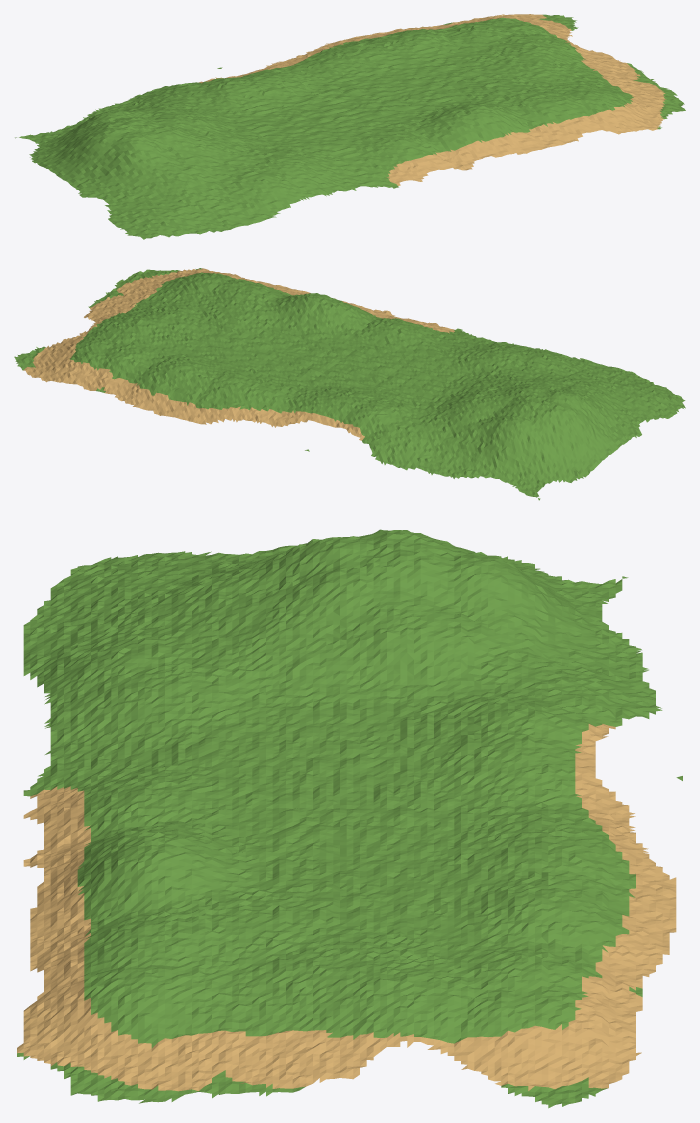
Rendered from scene5land.glb.
3 views of the same model, one above another, from view 1: azimuth 30°, elevation 25°; view 2: azimuth 150°, elevation 25°; view 3: azimuth 270°, elevation 25° (orthographic). The views are drawn at different scales.
Visible parts, largest first — view 1: Plane; view 2: Plane; view 3: Plane.
Boxes of the visible parts, x1,y1,x2,y2 form: Plane: (15, 14, 685, 239); Plane: (14, 268, 685, 500); Plane: (17, 529, 682, 1108).
Bounding box in the file's own units: 96 × 7.1 × 49.5.
